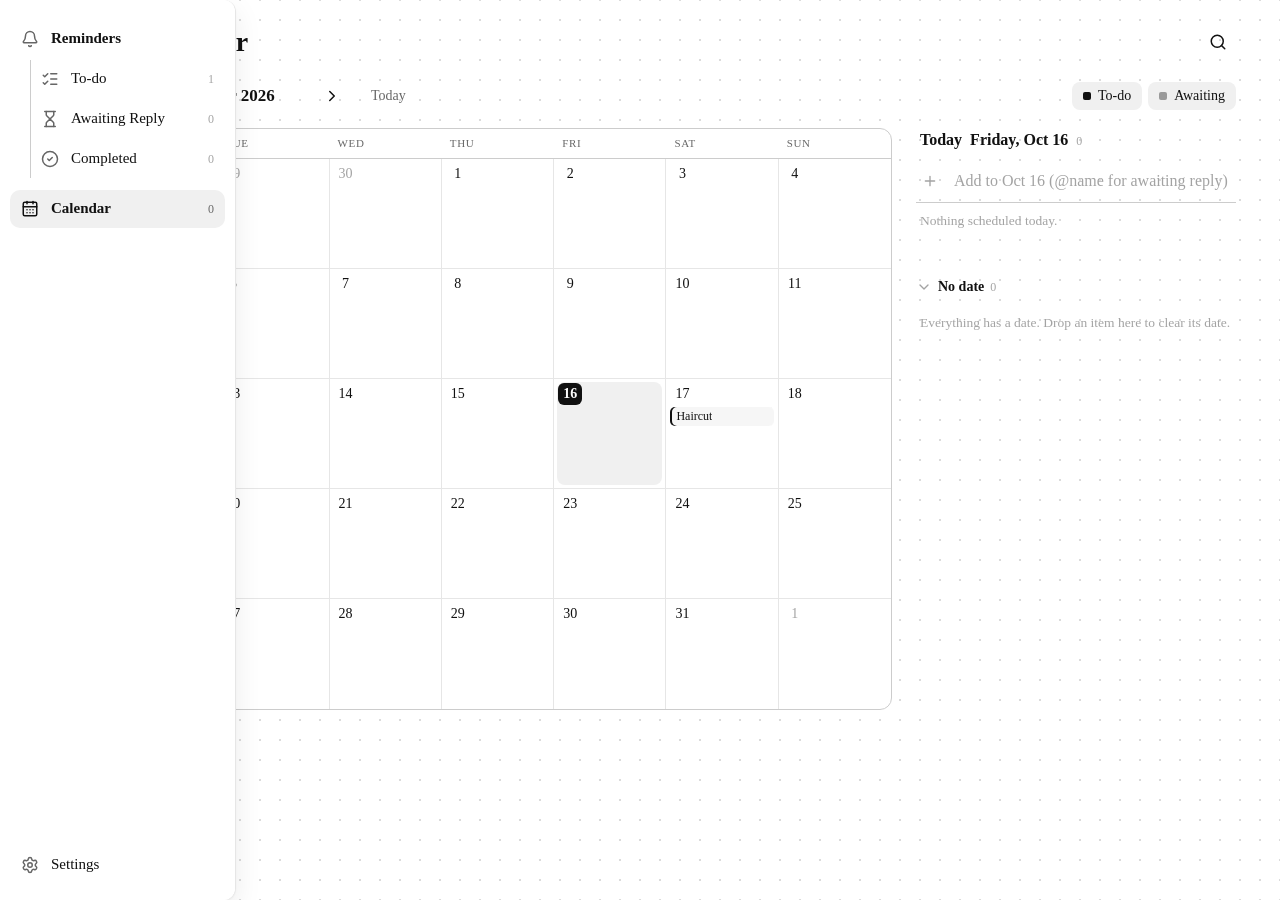
Test: calendar › opens an item in the agenda when its chip is clicked
Step 1. Click the button "Haircut" → click(722, 416), box [670, 407, 774, 426]
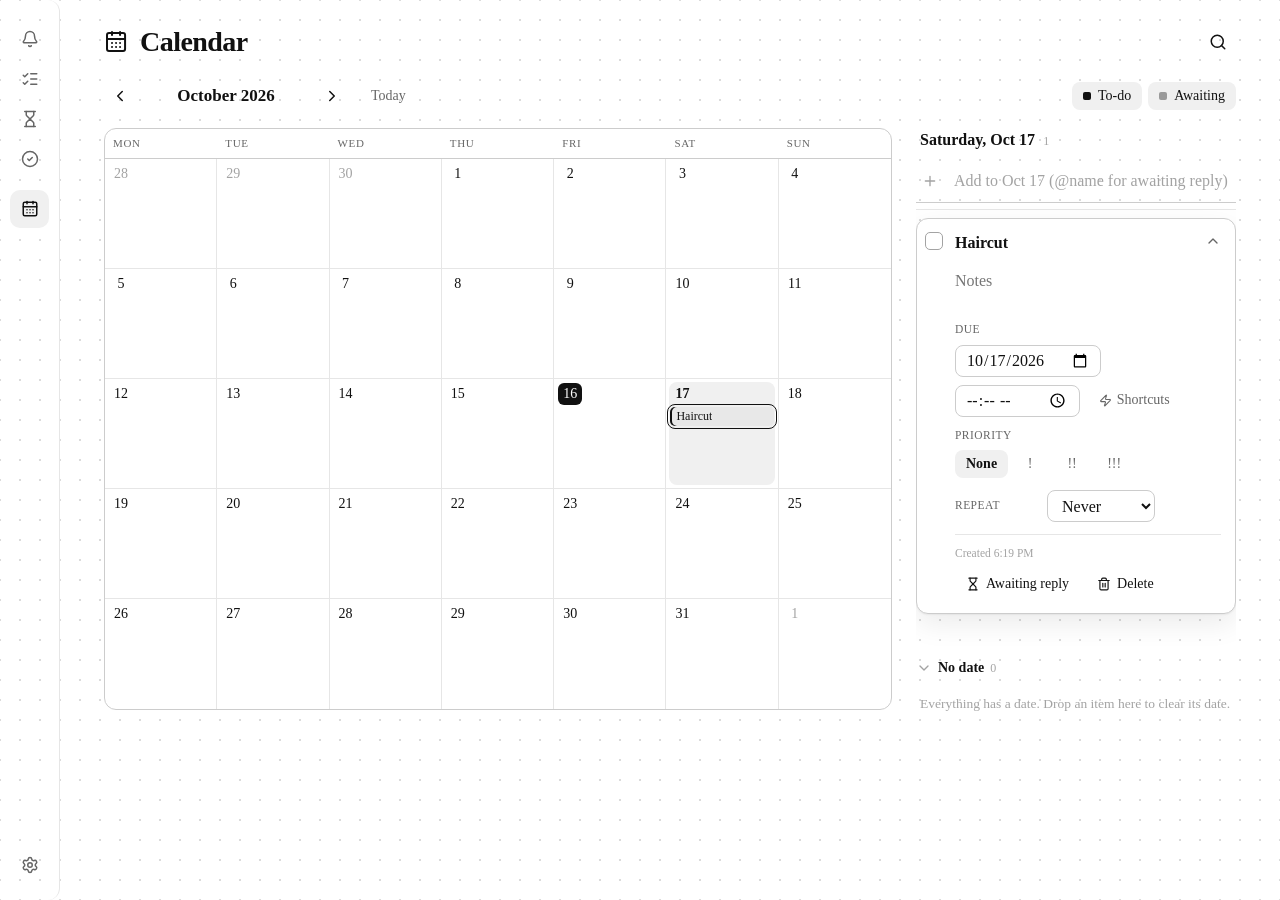
Expected: the text box labelled "Notes" is shown, [955, 269, 1221, 311]
